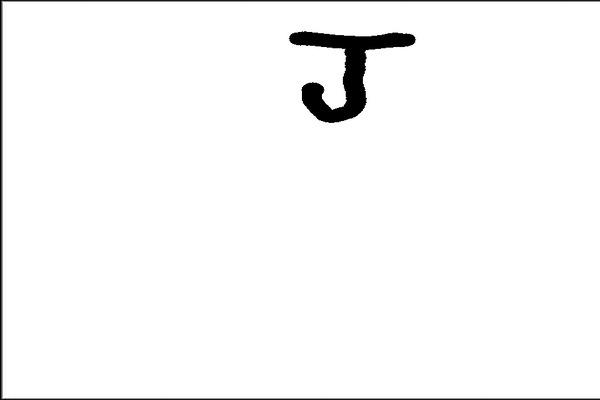J: (279, 19, 420, 126)
